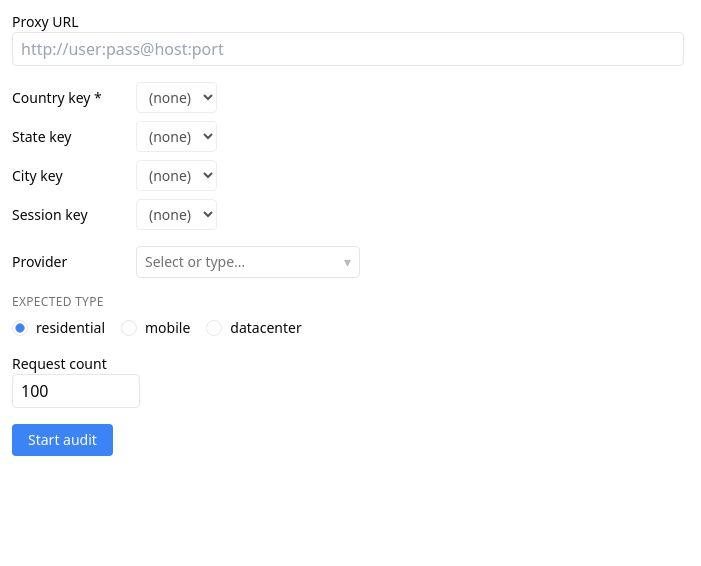
Scenario: AuditSetupForm — session warning banner › disappears when dismissed via 'Run anyway'
Type "http://hardcore_oparin6667-zone-residential-countryCode-RO-sessionId@eu-gw.databay.co:8888" into the field labelled "Proxy URL" at (348, 49), box [12,32,684,66]
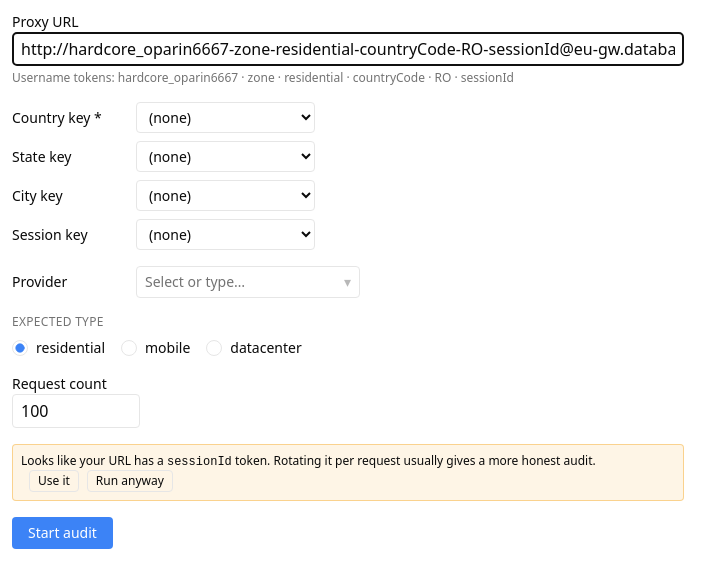
Result: the element with test id "session-warning" is shown at [12,444,684,501]
Click the button "Run anyway" at (130, 481), box [87,470,173,492]
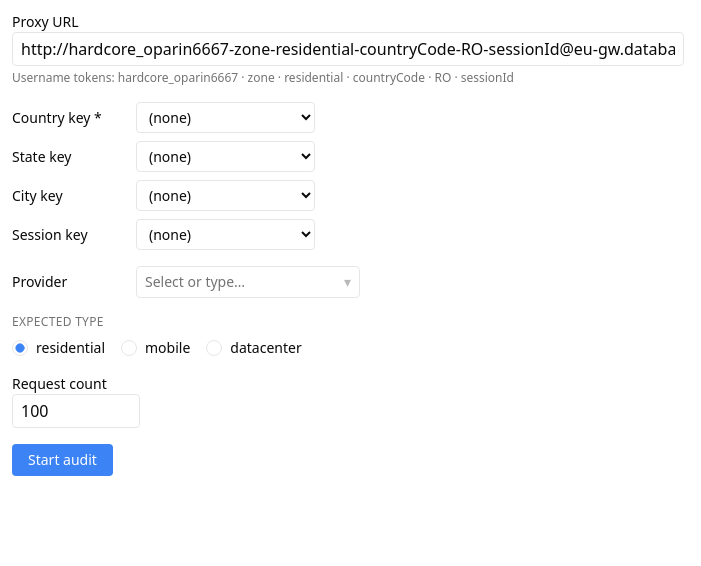
Result: the element with test id "session-warning" is gone
